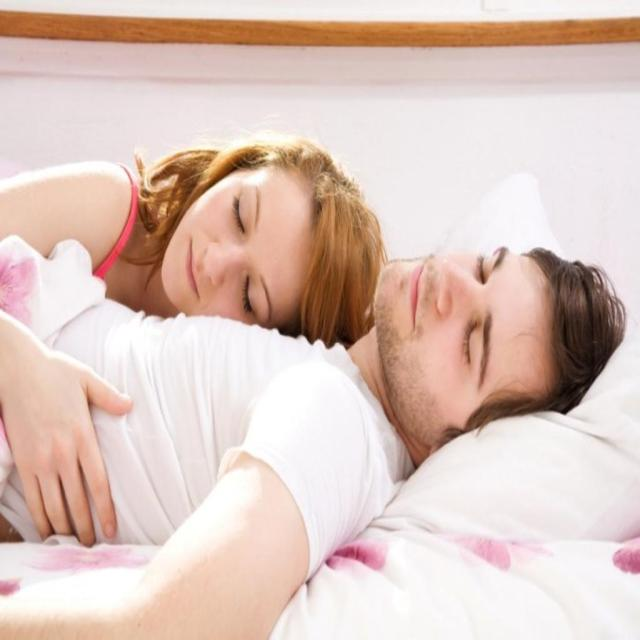Face: (379, 254, 579, 429), (174, 186, 335, 330)
